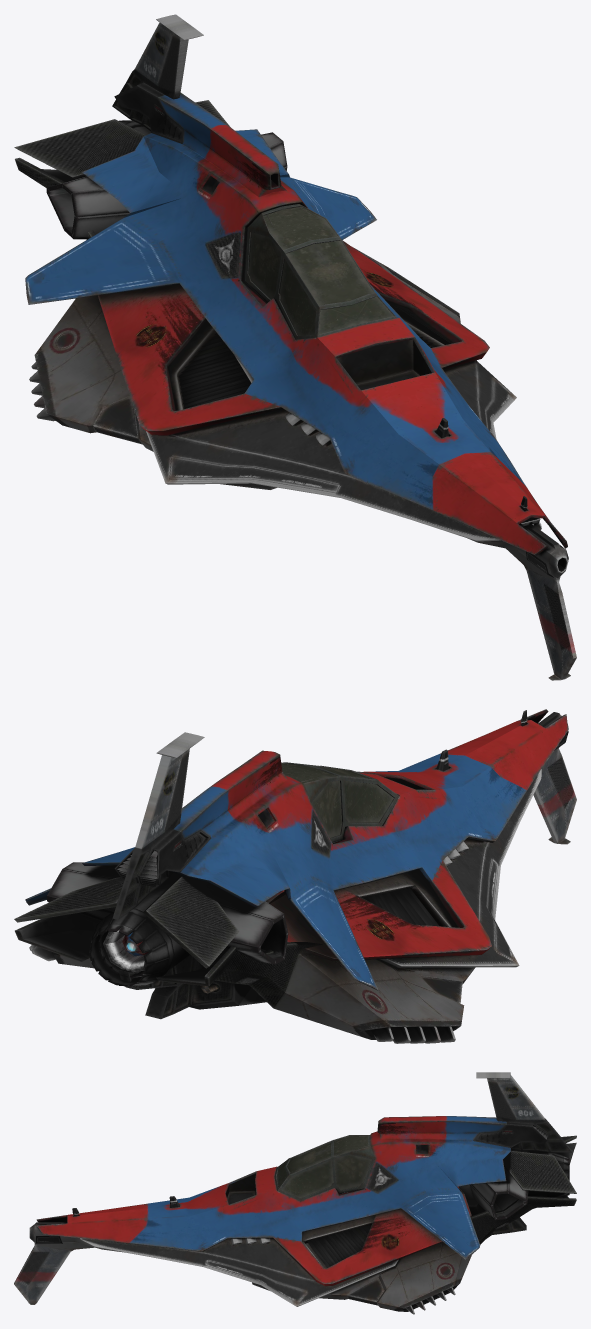
The model's file is Spaceship_6.glb.
The picture shows the model from 3 angles, top to bottom: view 1: azimuth 30°, elevation 25°; view 2: azimuth 150°, elevation 25°; view 3: azimuth 270°, elevation 25°; orthographic projection. The views are drawn at different scales.
Visible parts, largest first — view 1: Body_ship; view 2: Body_ship; view 3: Body_ship.
Part boxes in pixels (<box>): Body_ship: <box>14,14,576,680</box>; Body_ship: <box>14,709,576,1043</box>; Body_ship: <box>14,1072,576,1314</box>.
Bounding box in the file's own units: 0.0581 × 0.0497 × 0.1116.
Materials: 2 (2 with a texture image).
